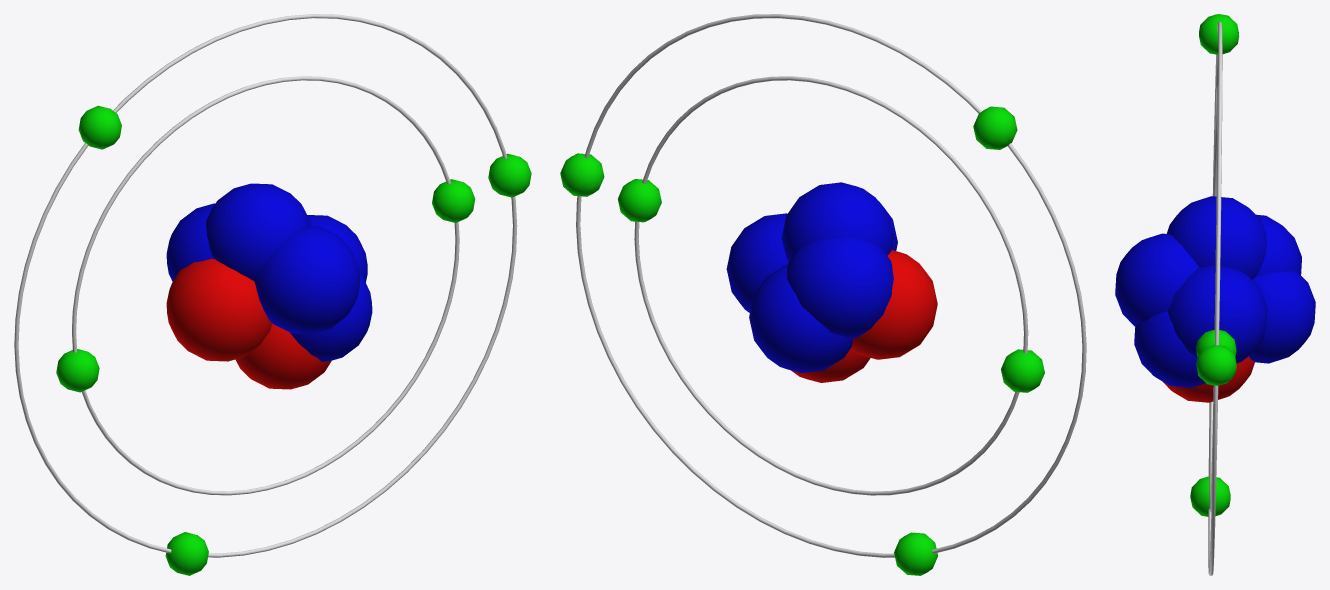
Rendered from boronElectronStructure_01.fbx.
3 renders of one model, left to right at view 1: azimuth 30°, elevation 25°; view 2: azimuth 150°, elevation 25°; view 3: azimuth 270°, elevation 25°, orthographic. The views are drawn at different scales.
Visible parts, largest first — view 1: output0_0_Instance1_6, output0_2_Instance1_6; view 2: output0_0_Instance1_6, output0_2_Instance1_6; view 3: output0_0_Instance1_6, output0_2_Instance1_6.
Boxes of the visible parts, <box> form: output0_0_Instance1_6: <box>166,183,372,389</box>; output0_2_Instance1_6: <box>14,14,531,575</box>; output0_0_Instance1_6: <box>726,182,937,382</box>; output0_2_Instance1_6: <box>560,14,1086,575</box>; output0_0_Instance1_6: <box>1115,196,1315,402</box>; output0_2_Instance1_6: <box>1190,14,1239,575</box>.
Size of the model in its own units: 13.33 by 13.09 by 4.71.
